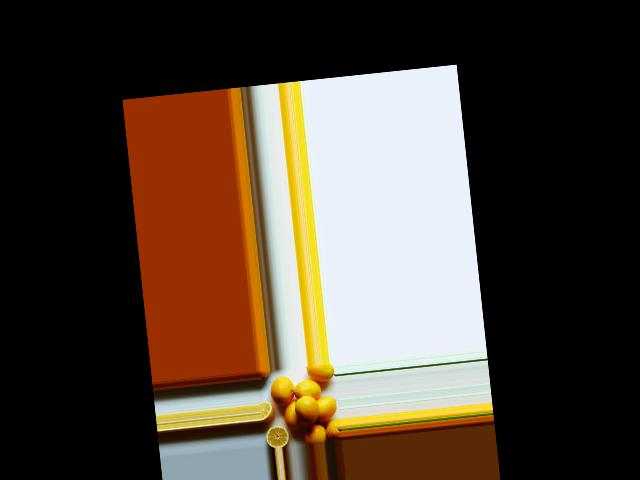lemon: (304, 422, 327, 444)
